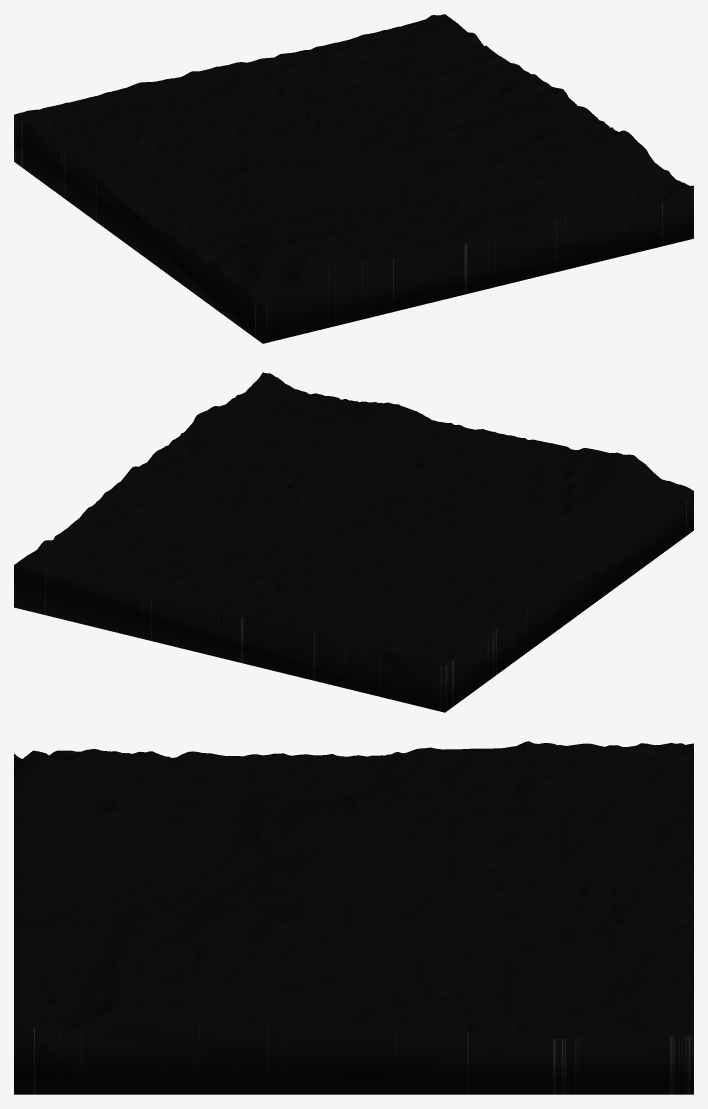
File: apollo14_site.glb
The picture shows the model from 3 angles, top to bottom: view 1: azimuth 30°, elevation 25°; view 2: azimuth 150°, elevation 25°; view 3: azimuth 270°, elevation 25°; orthographic projection. The views are drawn at different scales.
Parts seen in each view (by area): view 1: apollo14_site; view 2: apollo14_site; view 3: apollo14_site.
Part boxes in pixels (x1,y1,x2,y2): apollo14_site: (14, 14, 693, 343); apollo14_site: (14, 372, 693, 712); apollo14_site: (14, 741, 693, 1094).
Bounding box in the file's own units: 1 × 0.1495 × 1.
1 material, 1 textured.
